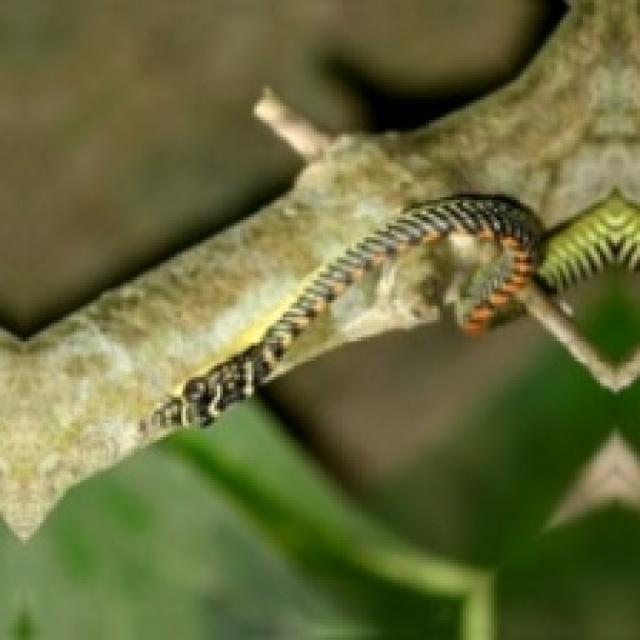paradise tree snake: (140, 189, 637, 440)
